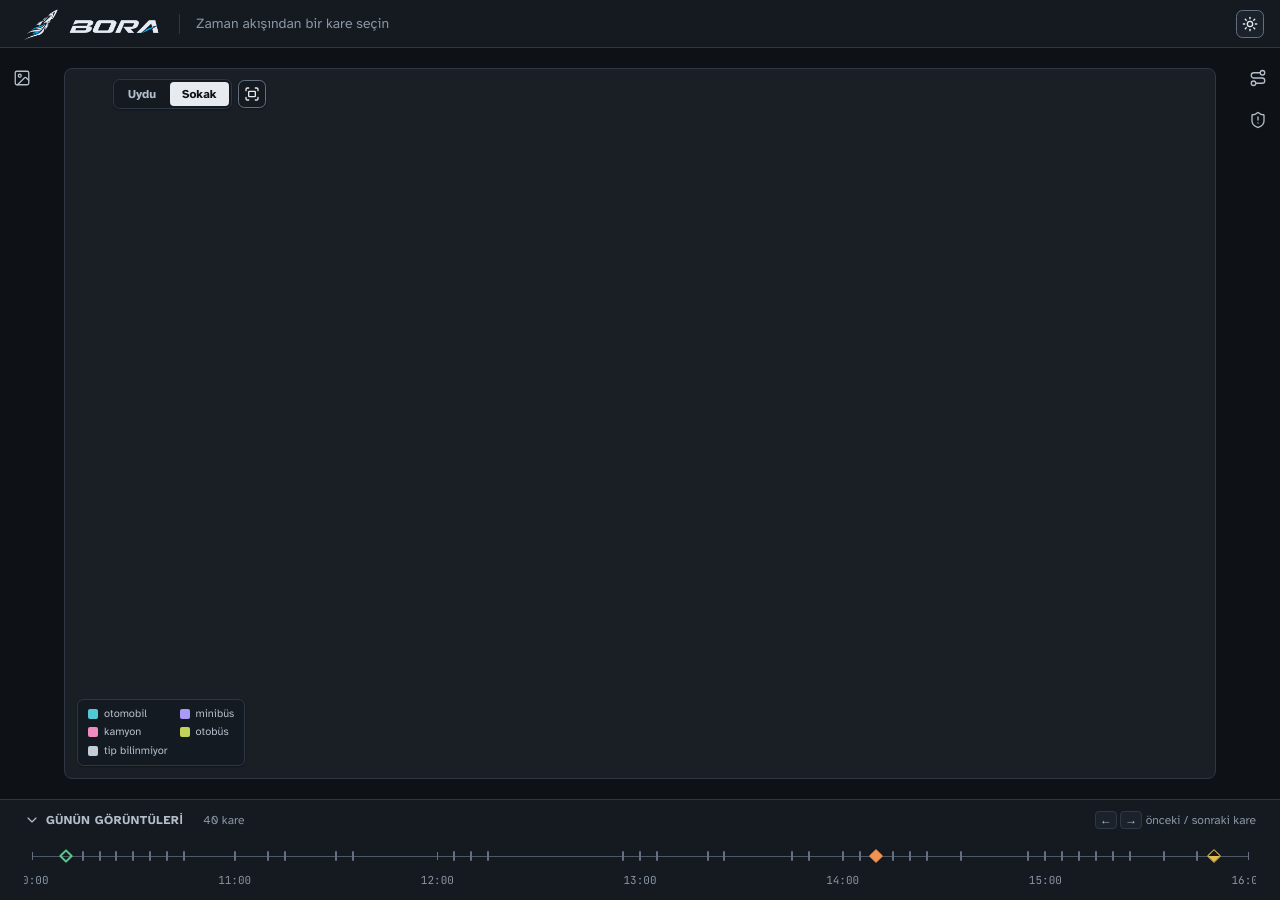
Operasyon ekranı kabuğu › kenar rayı ikonlu: adı erişilebilir ad ve ipucunda, kısayol ipucunda; Brief'in ayrı kenar düğmesi yok
Hover over the button named "Risk & Araçlar" at (1258, 120), box [1240,102,1276,138]
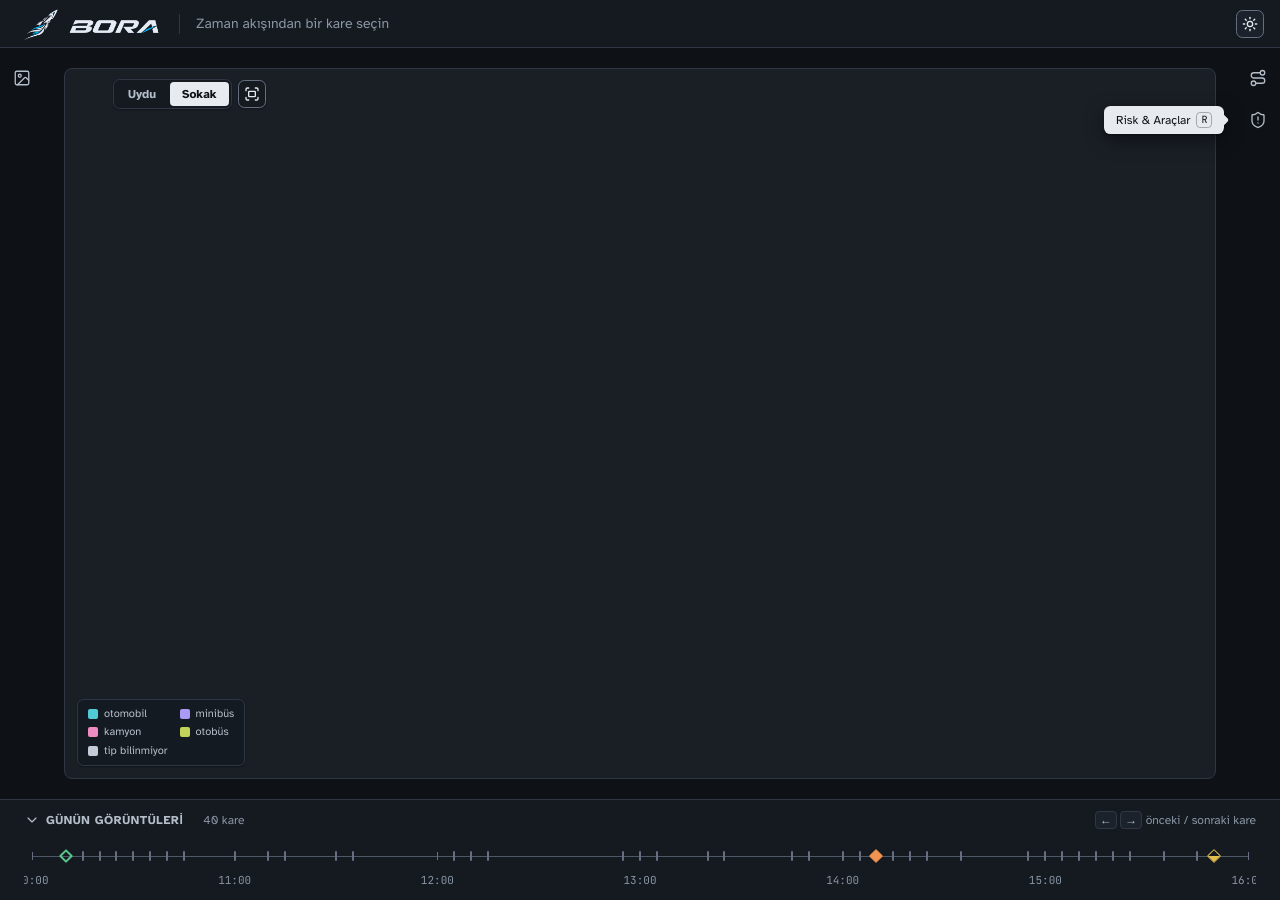
Expected: the tooltip reads "Risk & Araçlar R", [1104,106,1224,134]
